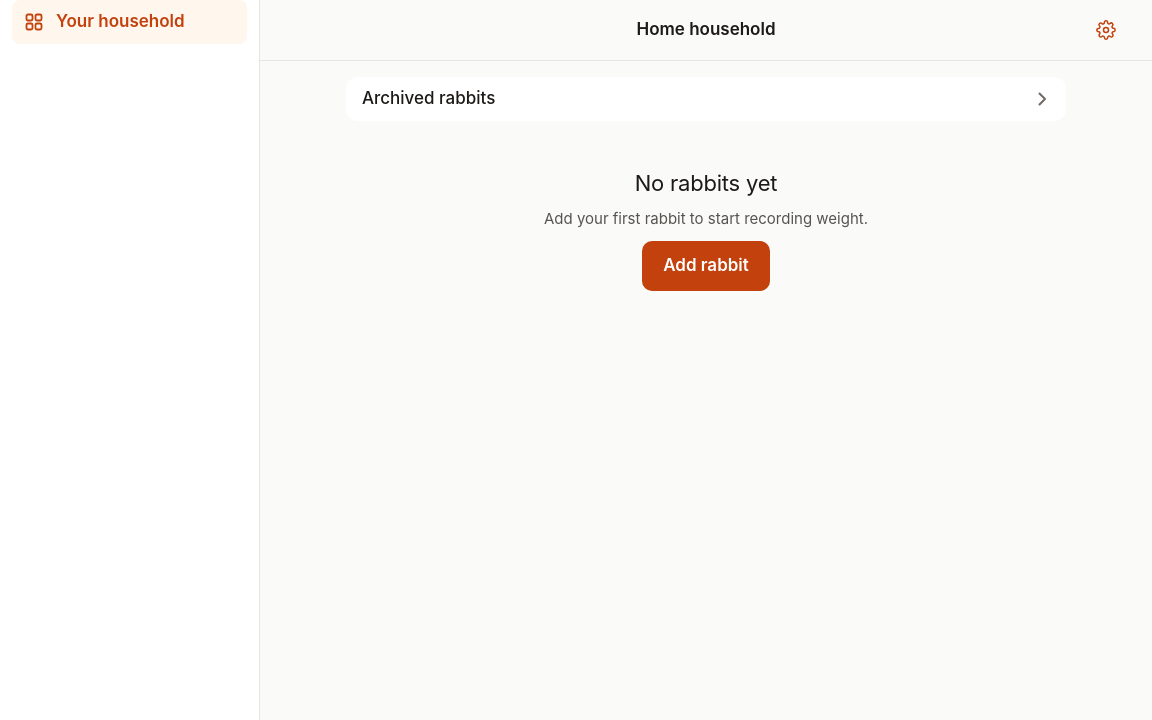
Test: returns to the list after a confirmed create
Expected: the element that starts with "Home household" is shown, [260,0,1151,291]
Expected: the heading "No rabbits yet" is shown, [635,169,777,197]
Click the button "Add rabbit": (706, 266) [642,241,770,291]
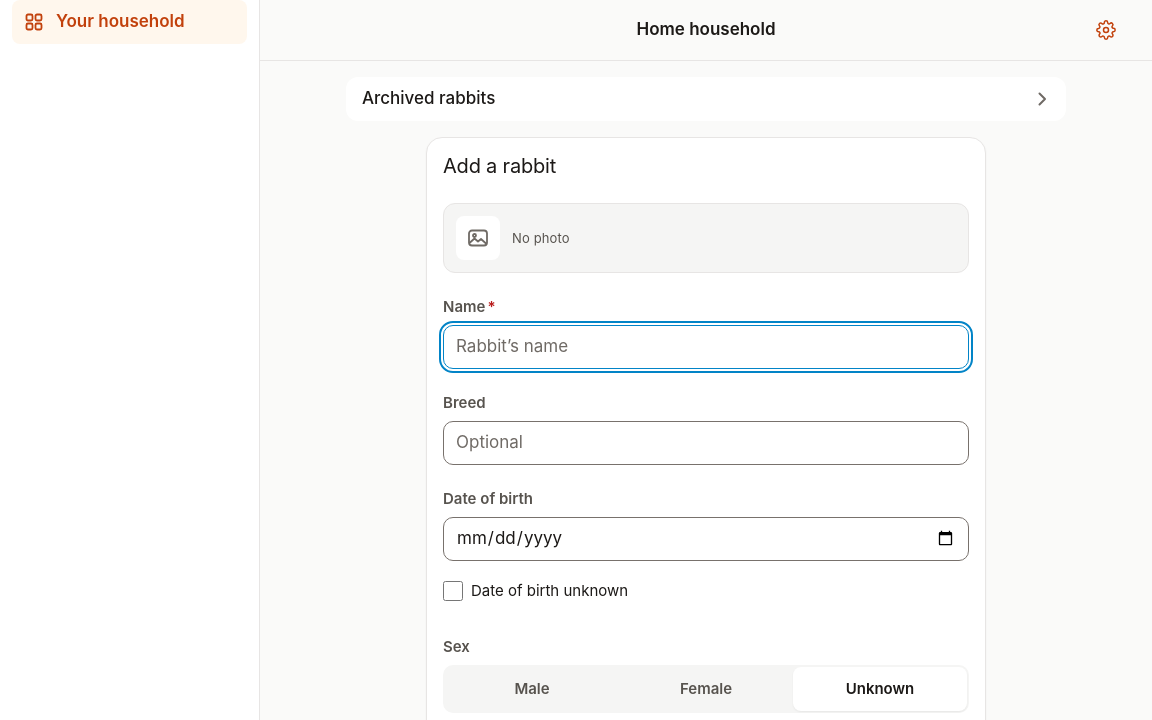
In the field labelled "Name*": (706, 347) [443,325,969,369], type "Hazel"
(page scrolled)
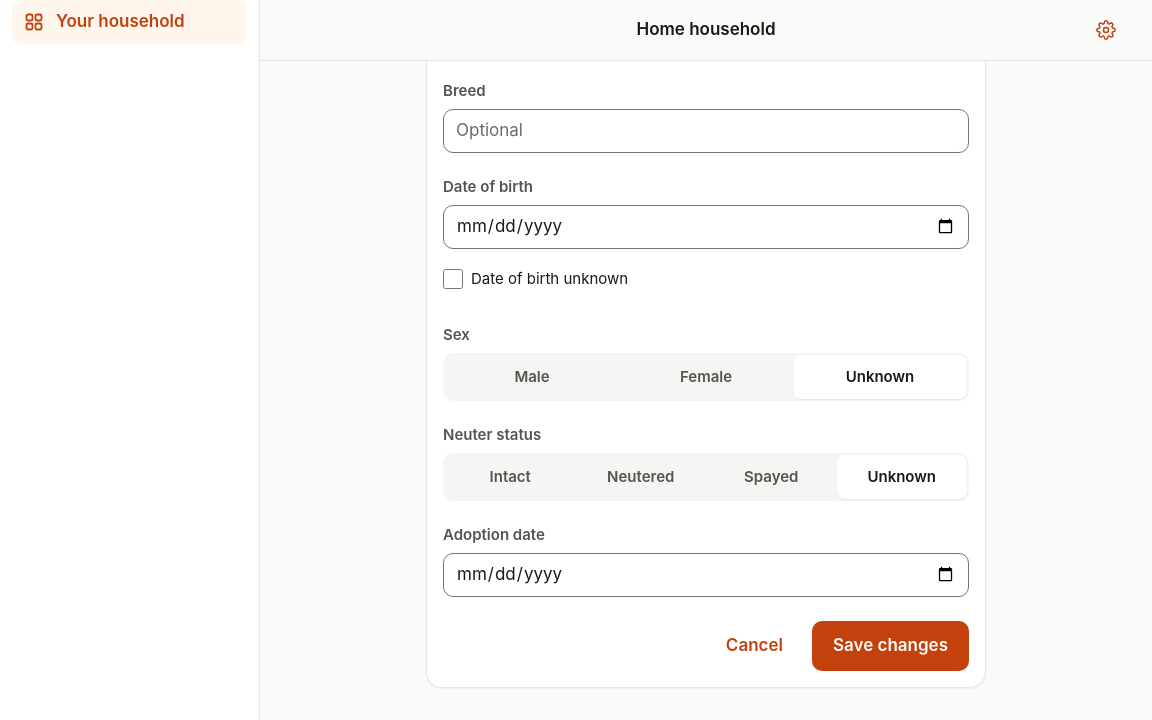
Click the button "Save changes": (890, 646) [812,621,969,671]
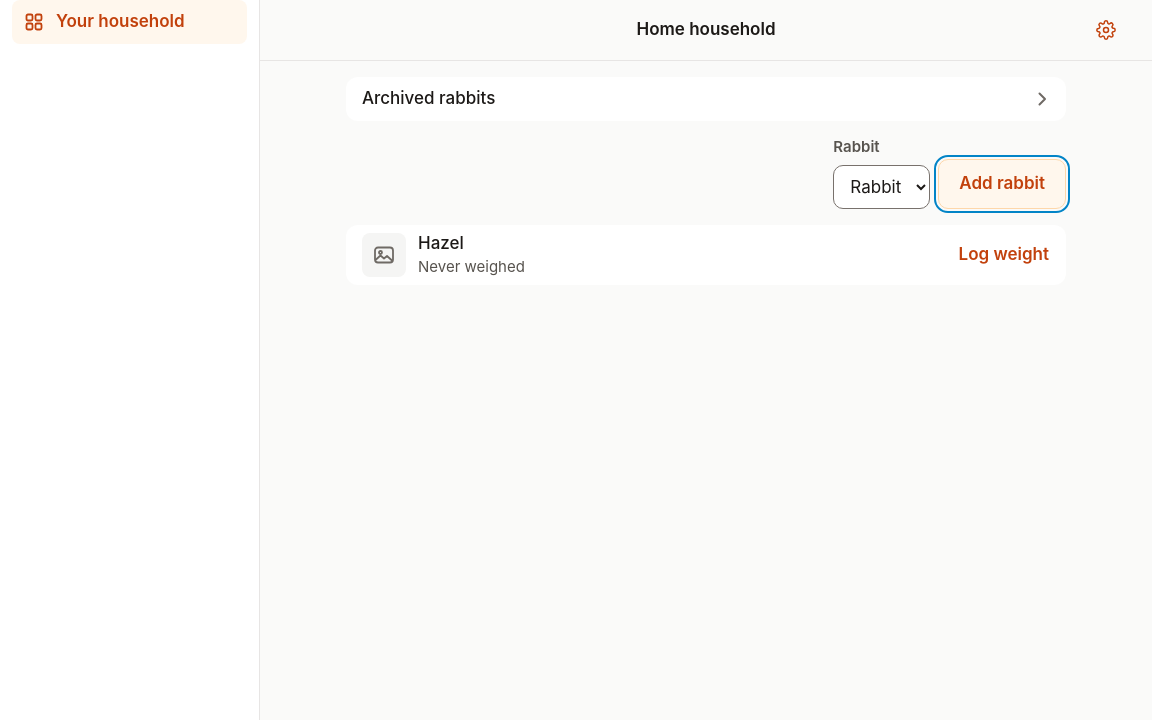
Expected: the heading "Add a rabbit" is not shown
Now the text "Hazel" is shown, box [418,233,464,253]
